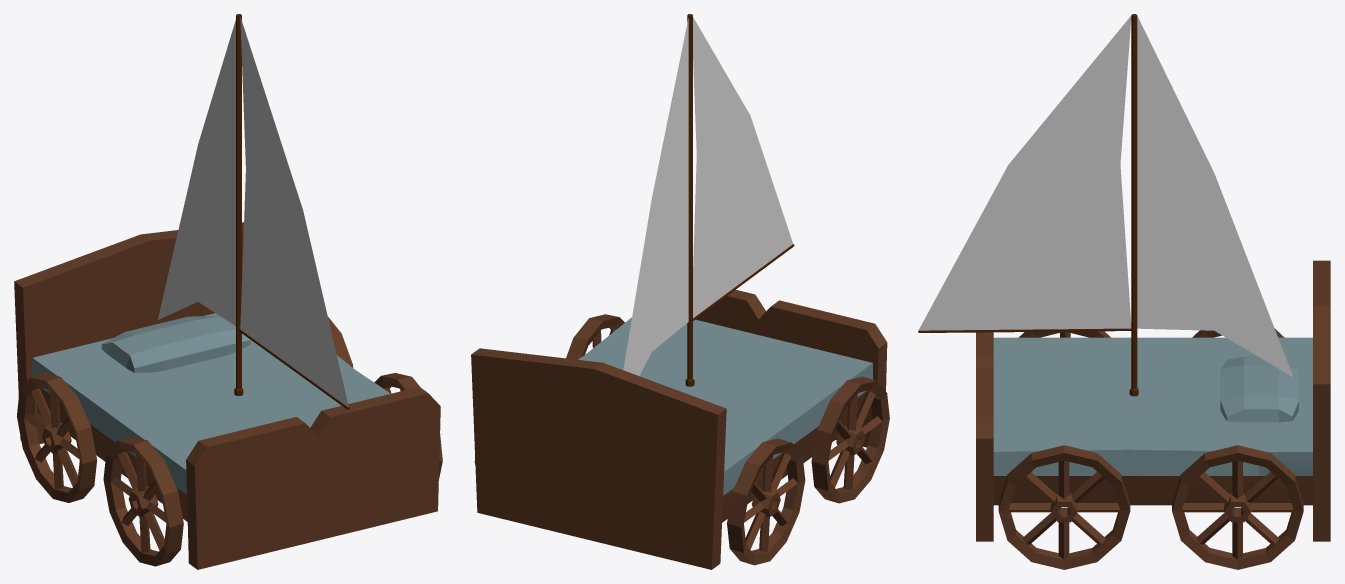
Rendered from krevet.fbx.
The picture shows the model from 3 angles, left to right: view 1: azimuth 30°, elevation 25°; view 2: azimuth 150°, elevation 25°; view 3: azimuth 270°, elevation 25°; orthographic projection. The views are drawn at different scales.
Parts seen in each view (by area): view 1: bed-wood, boat-sail, wheel_wood.002; view 2: bed-wood, boat-sail, wheel_wood.002; view 3: boat-sail, bed-wood, wheel_wood.002.
Part boxes in pixels (box(x1,y1,x2,y2)): bed-wood: box(14, 222, 440, 569); boat-sail: box(158, 14, 349, 409); wheel_wood.002: box(17, 317, 442, 566); bed-wood: box(471, 290, 887, 569); boat-sail: box(623, 14, 794, 386); wheel_wood.002: box(474, 314, 889, 565); boat-sail: box(918, 14, 1293, 396); bed-wood: box(976, 260, 1330, 541); wheel_wood.002: box(998, 328, 1303, 569).
Bounding box in the file's own units: 182 × 305 × 233.
